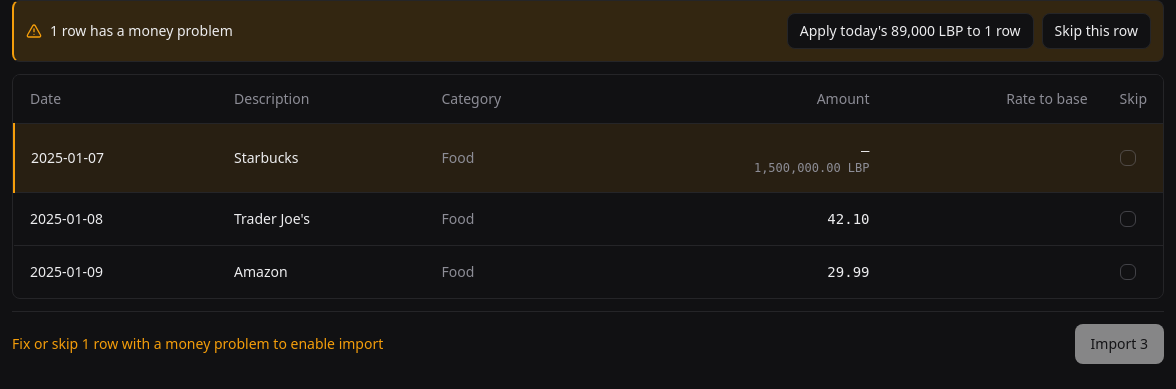
it: ImportPreviewTable — money › refuses to claim a rate-missing row is worth 0.00
This screenshot has width=1176, height=389.
Step 1. Double-click the text "—" → x=865, y=150, box left=861, top=142, right=870, bottom=158
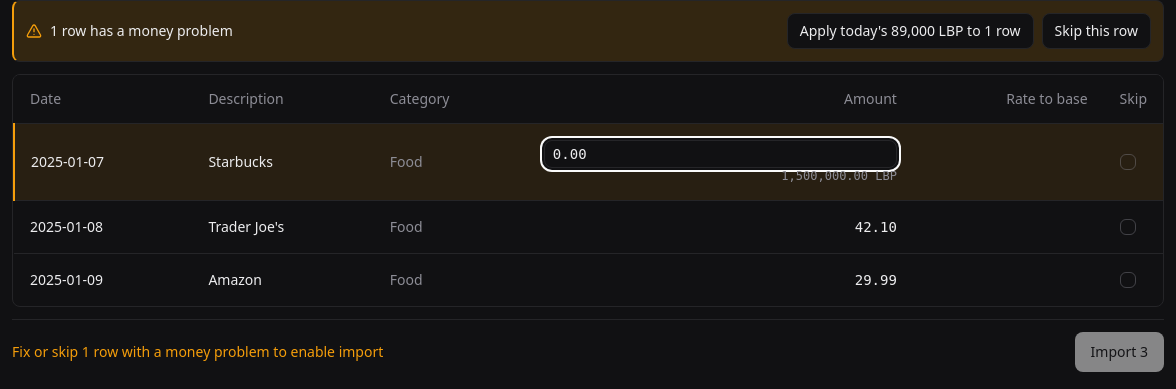
expect the field showing "0.00" is shown: met, box left=544, top=140, right=897, bottom=168
